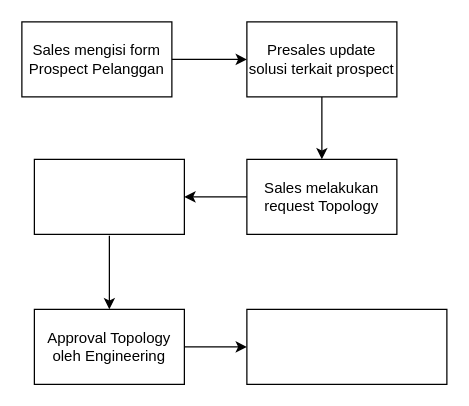
This 469x406 diagram has some shape labels left out. Here are the shapes that lost their labels. From the top down, the centre of each, then its label:
pixel 108 196: Presales membuat topology
pixel 346 346: Sales melampirkan topology pada saat pembuatan SO dan WO
